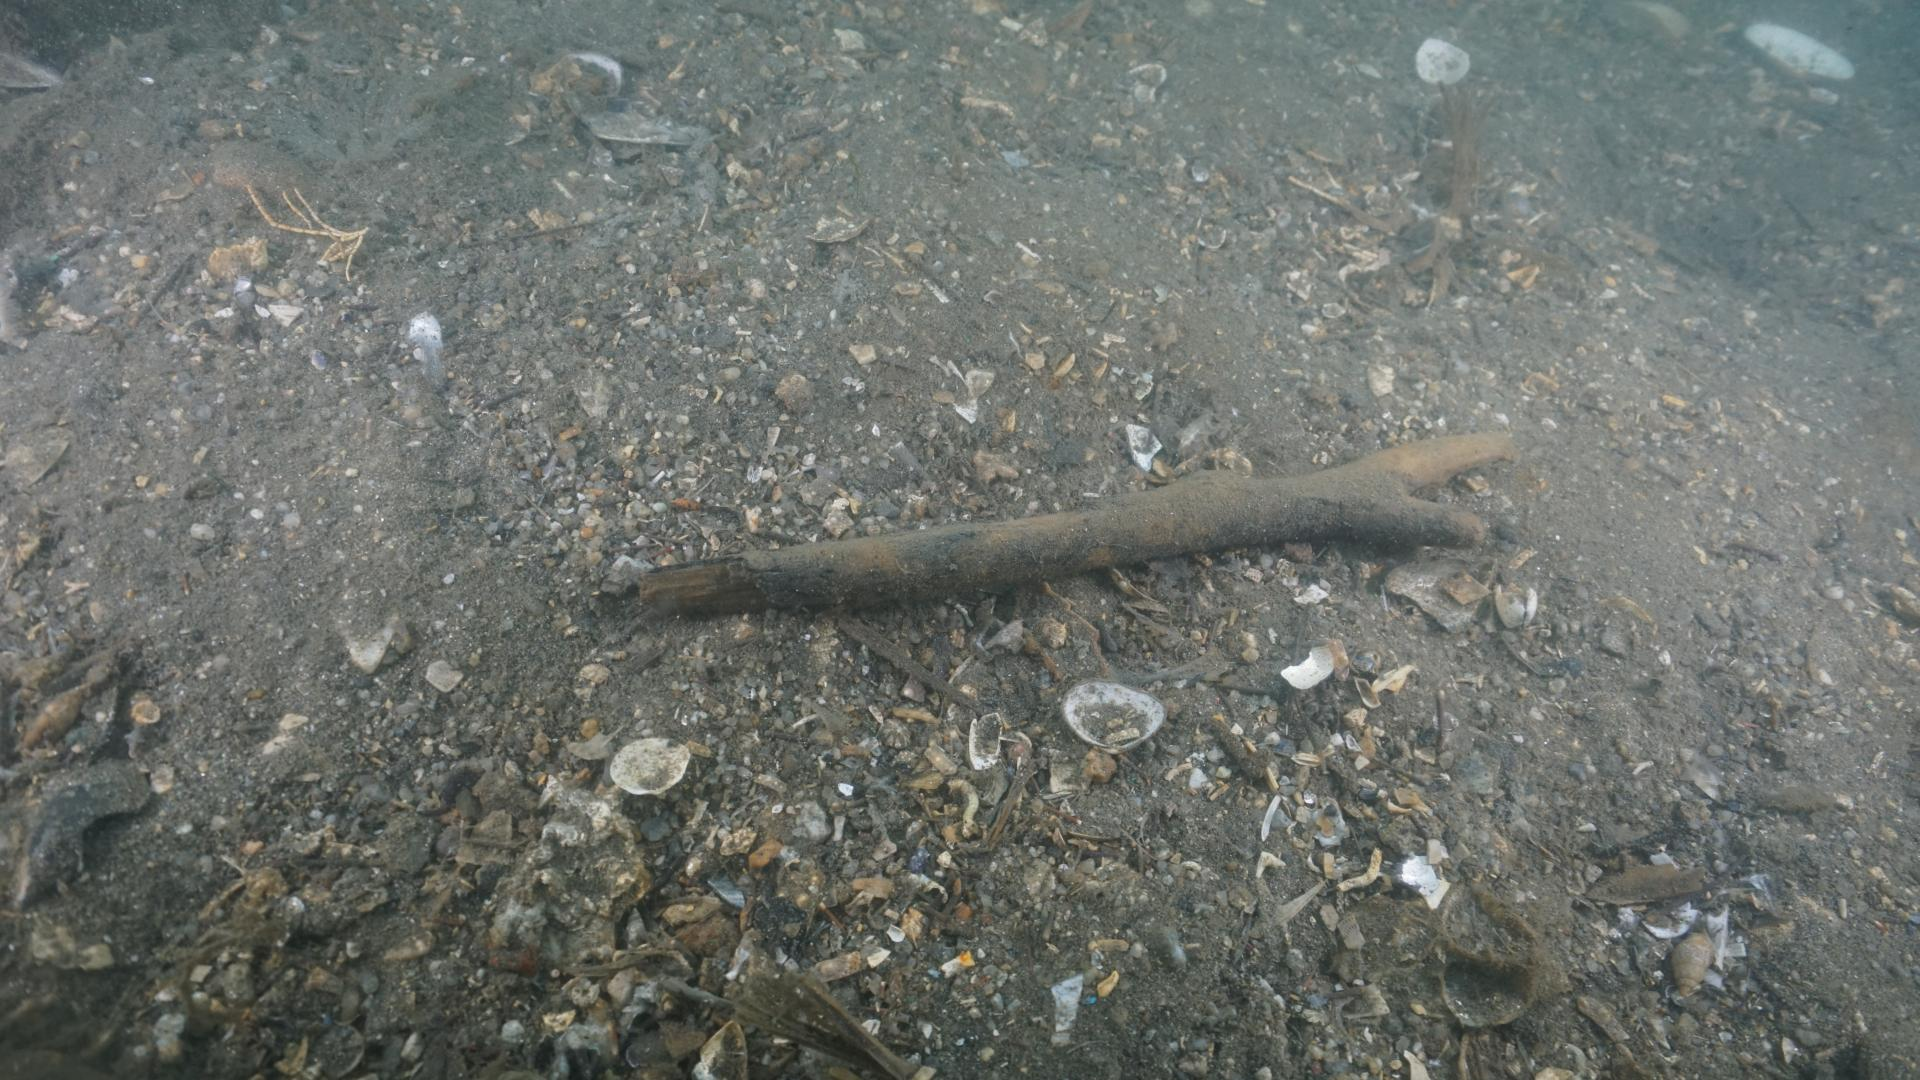wood: (599, 426, 1513, 630)
